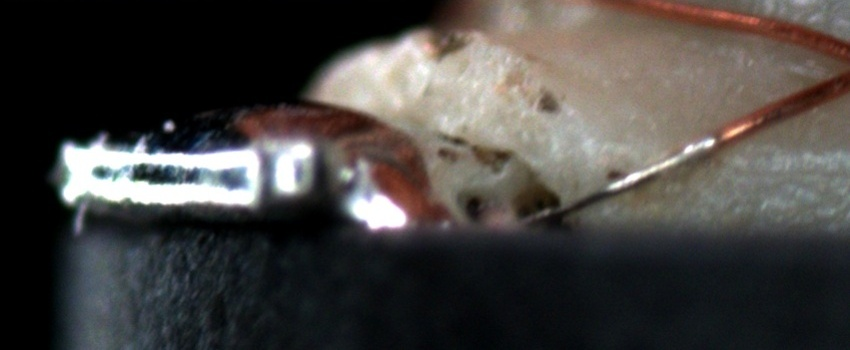DL: (701, 134, 849, 198)
TS: (516, 134, 722, 227)
TTCW: (514, 118, 757, 228)
